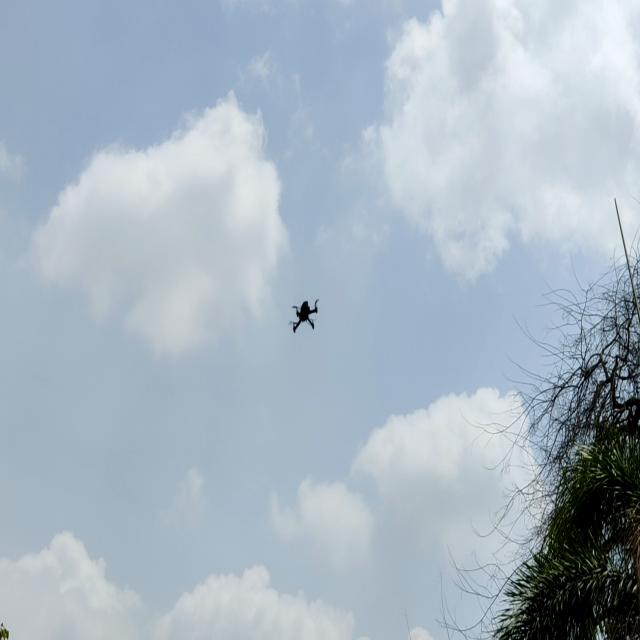drone: (285, 296, 324, 340)
